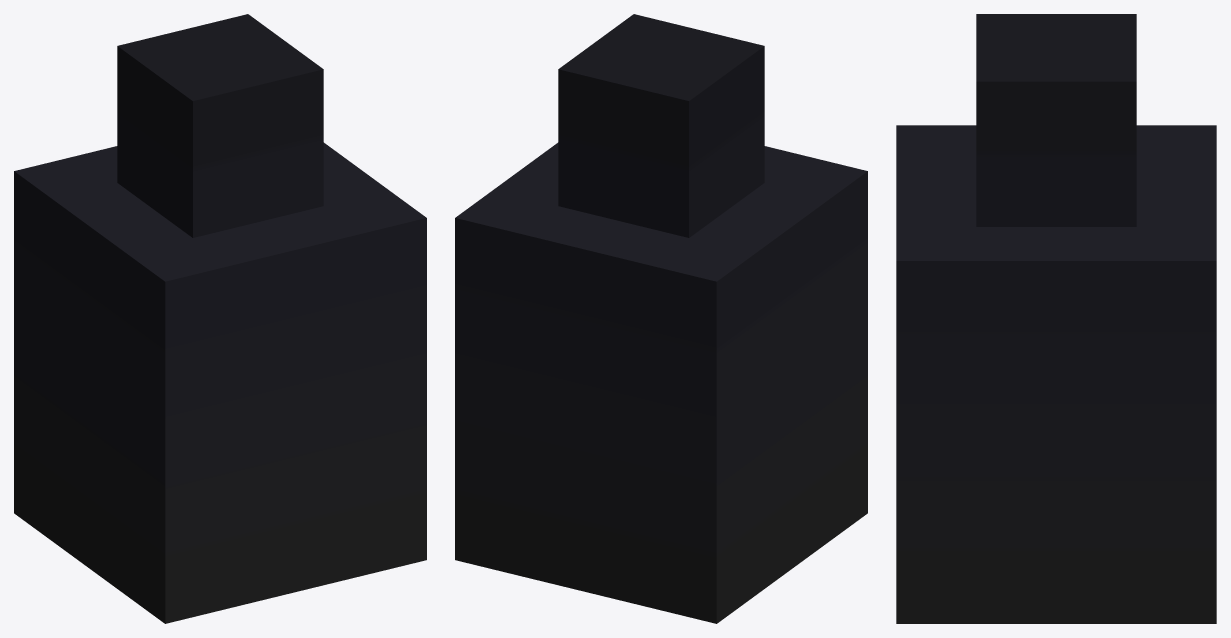
The model's file is Hip079.fbx.
3 renders of one model, left to right at view 1: azimuth 30°, elevation 25°; view 2: azimuth 150°, elevation 25°; view 3: azimuth 270°, elevation 25°, orthographic. The views are drawn at different scales.
Visible parts, largest first — view 1: Hip079; view 2: Hip079; view 3: Hip079.
Part boxes in pixels (left/top/right/bottom): Hip079: left=14, top=14, right=426, bottom=623; Hip079: left=455, top=14, right=867, bottom=623; Hip079: left=896, top=14, right=1216, bottom=623.
Size of the model in its own units: 4 by 7 by 4.
